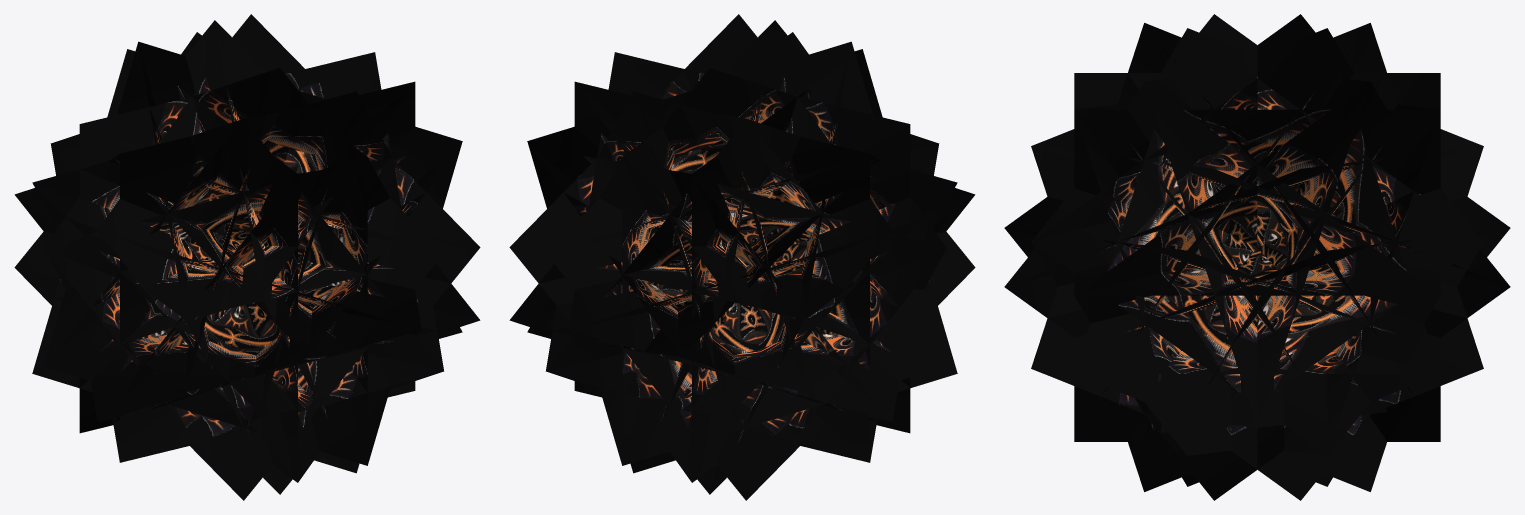
Rendered from 1GreatRhombidodecahedron.gltf.
The picture shows the model from 3 angles, left to right: view 1: azimuth 30°, elevation 25°; view 2: azimuth 150°, elevation 25°; view 3: azimuth 270°, elevation 25°; orthographic projection. The views are drawn at different scales.
Visible parts, largest first — view 1: 1GreatRhombidodecahedron; view 2: 1GreatRhombidodecahedron; view 3: 1GreatRhombidodecahedron.
Part boxes in pixels (<box>): 1GreatRhombidodecahedron: <box>14,14,480,500</box>; 1GreatRhombidodecahedron: <box>509,14,975,500</box>; 1GreatRhombidodecahedron: <box>1004,14,1510,500</box>.
Size of the model in its own units: 1.38 by 1.38 by 1.38.
Materials: 1 (1 with a texture image).
